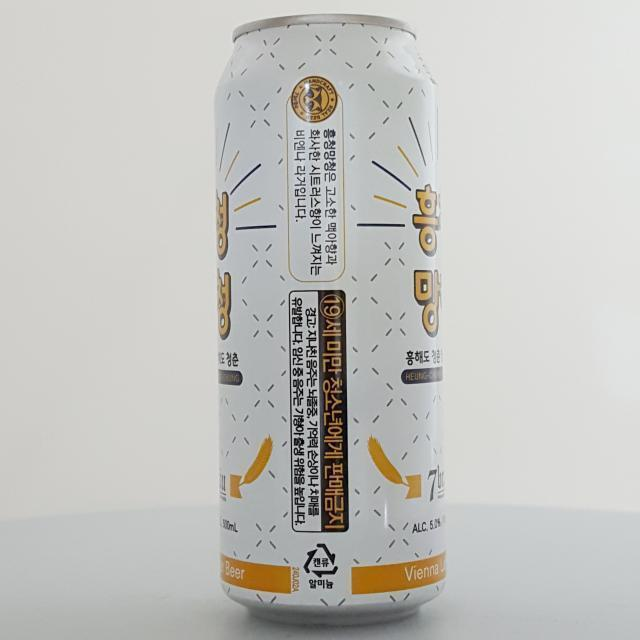can: (207, 10, 452, 629)
